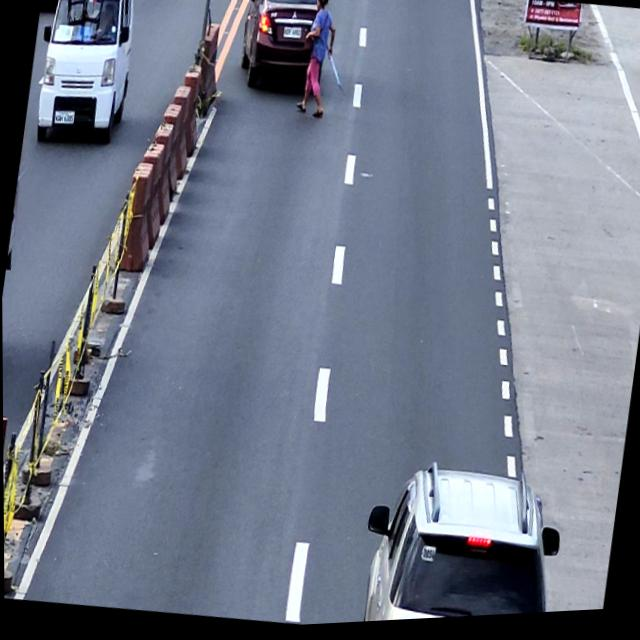Car: (352, 452, 570, 626), (30, 0, 145, 153), (232, 0, 326, 99)
License-Plate: (281, 26, 303, 45), (54, 108, 76, 127)
